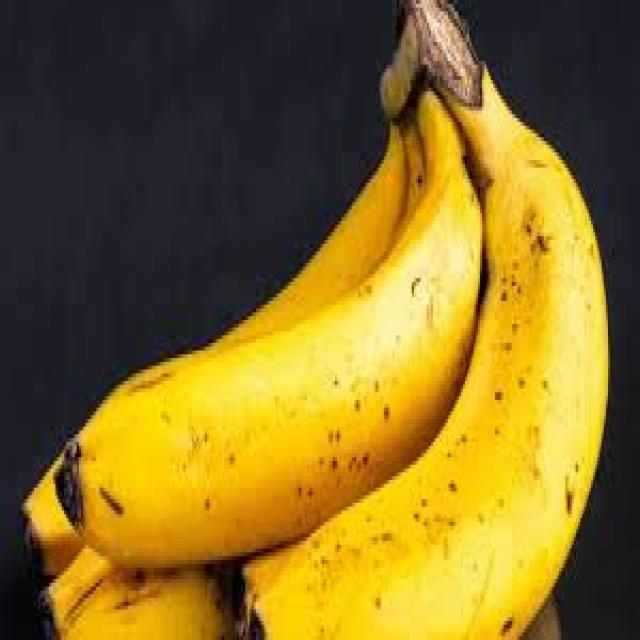Banana: (475, 153, 603, 609), (110, 362, 414, 518)
